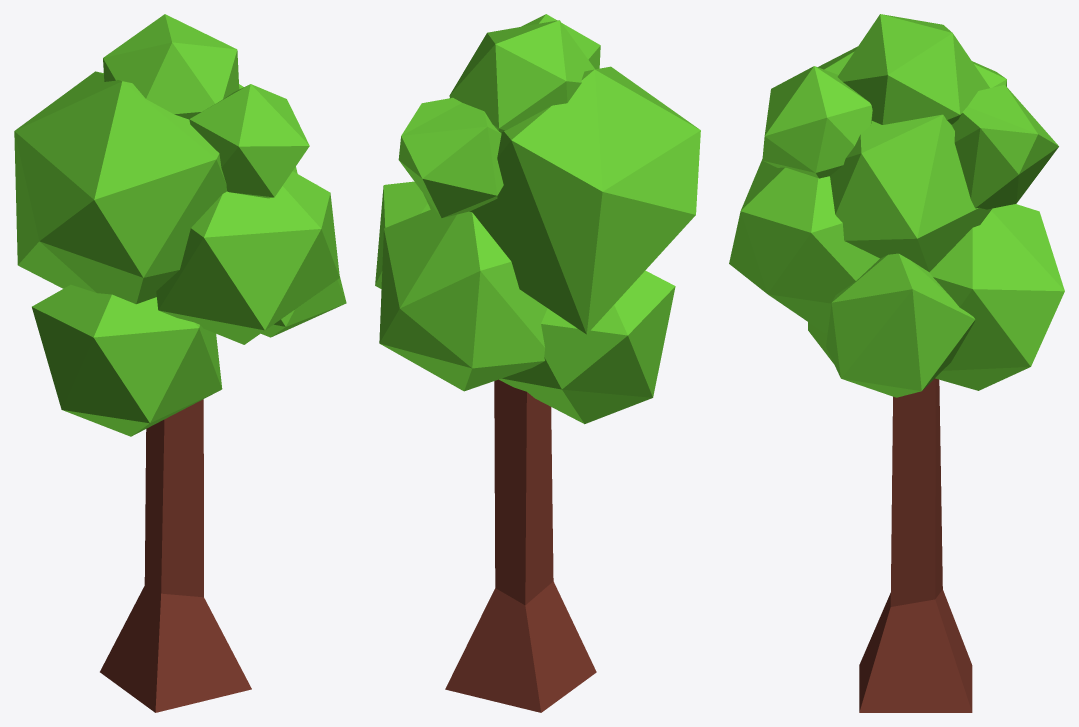
Rendered from LowPolyTree1.fbx.
3 views of the same model, side by side, from view 1: azimuth 30°, elevation 25°; view 2: azimuth 150°, elevation 25°; view 3: azimuth 270°, elevation 25° (orthographic).
Visible parts, largest first — view 1: Leaves, Tree1; view 2: Leaves, Tree1; view 3: Leaves, Tree1.
Boxes of the visible parts, x1,y1,x2,y2 form: Leaves: [14, 14, 346, 436]; Tree1: [100, 399, 251, 712]; Leaves: [375, 14, 700, 424]; Tree1: [445, 379, 596, 712]; Leaves: [729, 14, 1064, 397]; Tree1: [859, 378, 972, 712].
Size of the model in its own units: 414 by 866 by 397.
